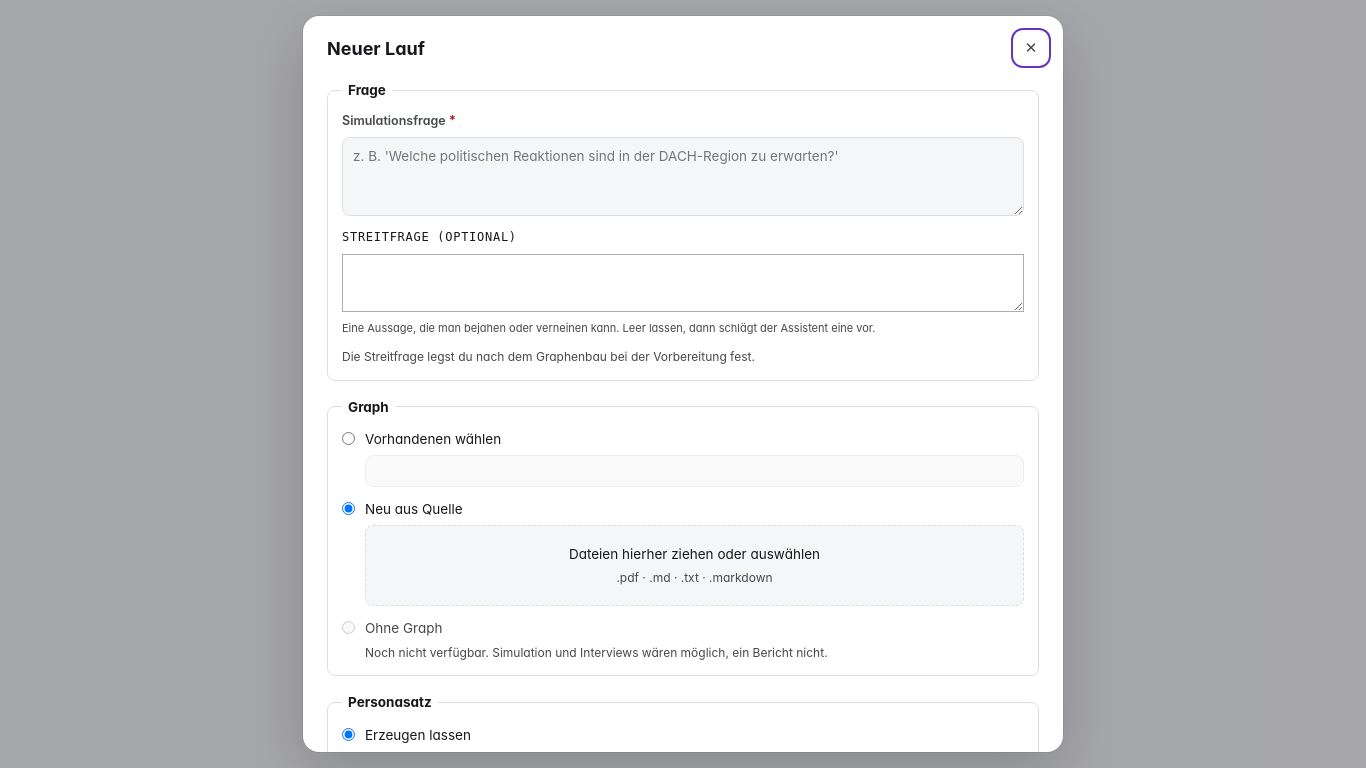
it: NewRunDialog — Frage › vorhandener Graph zeigt dessen Frage schreibgeschützt mit Hinweis
The width and height of the screenshot is (1366, 768).
Click the radio button named "graph-mode". click: (348, 438)
box: [342,432,355,445]
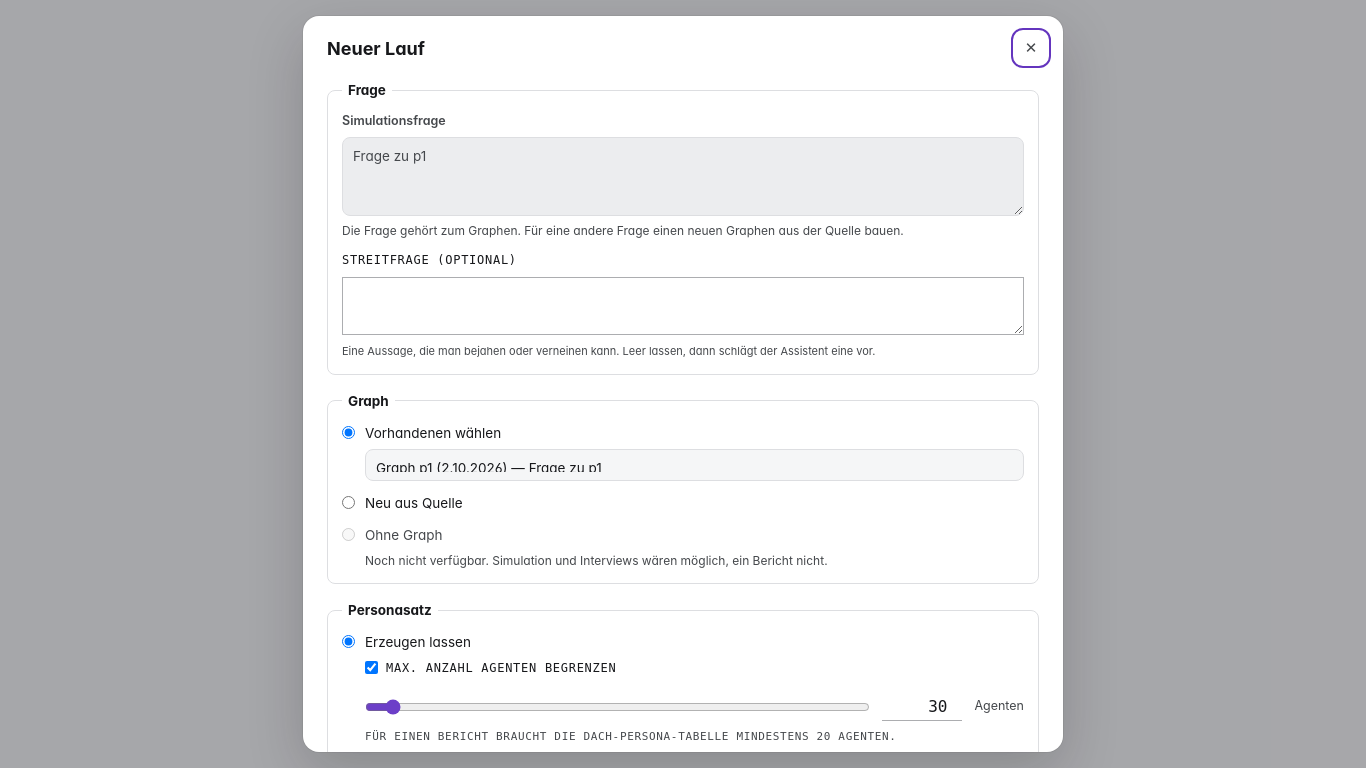
Now the dialog shows "Die Frage gehört zum Graphen. Für eine andere Frage einen neuen Graphen aus der Quelle bauen.", box [342,223,904,238]
